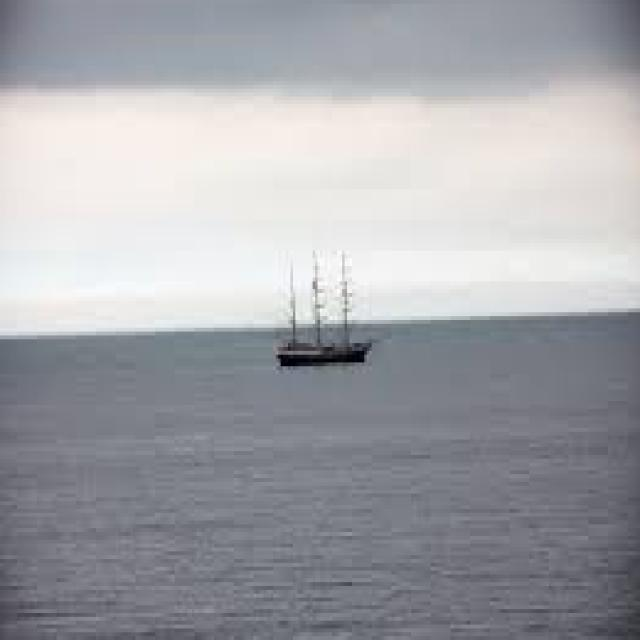fishing boat: (268, 258, 372, 369)
